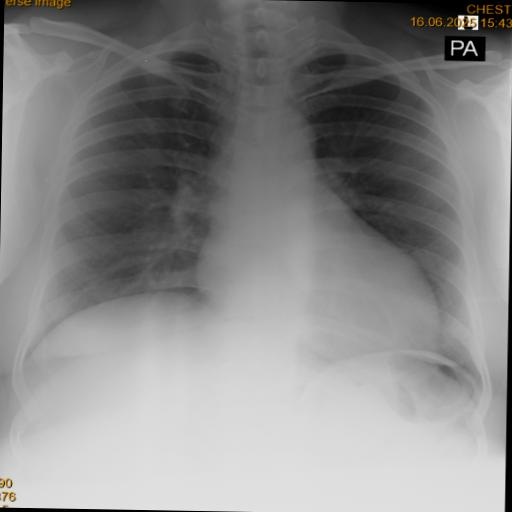kardiomegali: (4, 9, 510, 407)
